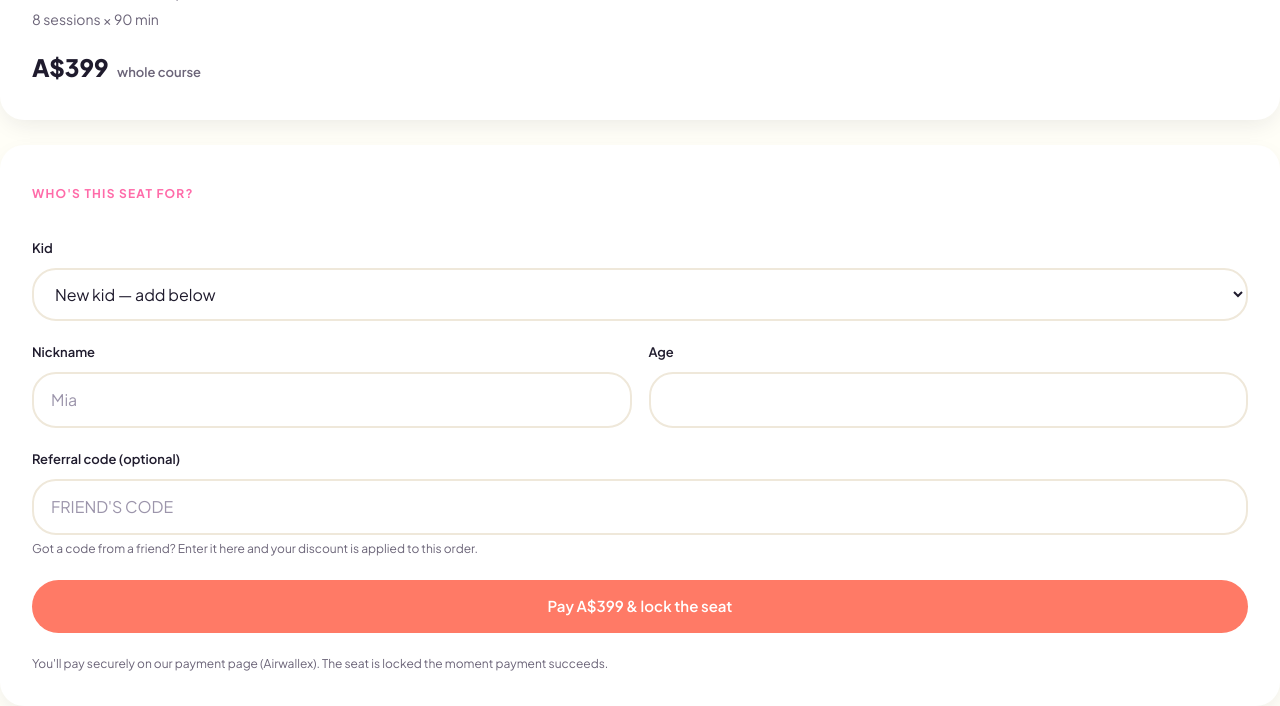
Test: ClassCheckoutPage › referral code entry (§7.2 rule 1) › confirms a good code and names the discount
(page scrolled)
Type "BCDF2345" into the field with placeholder "Friend's code".
click(640, 507); type("BCDF2345")  # box x1=32 y1=479 x2=1248 y2=535
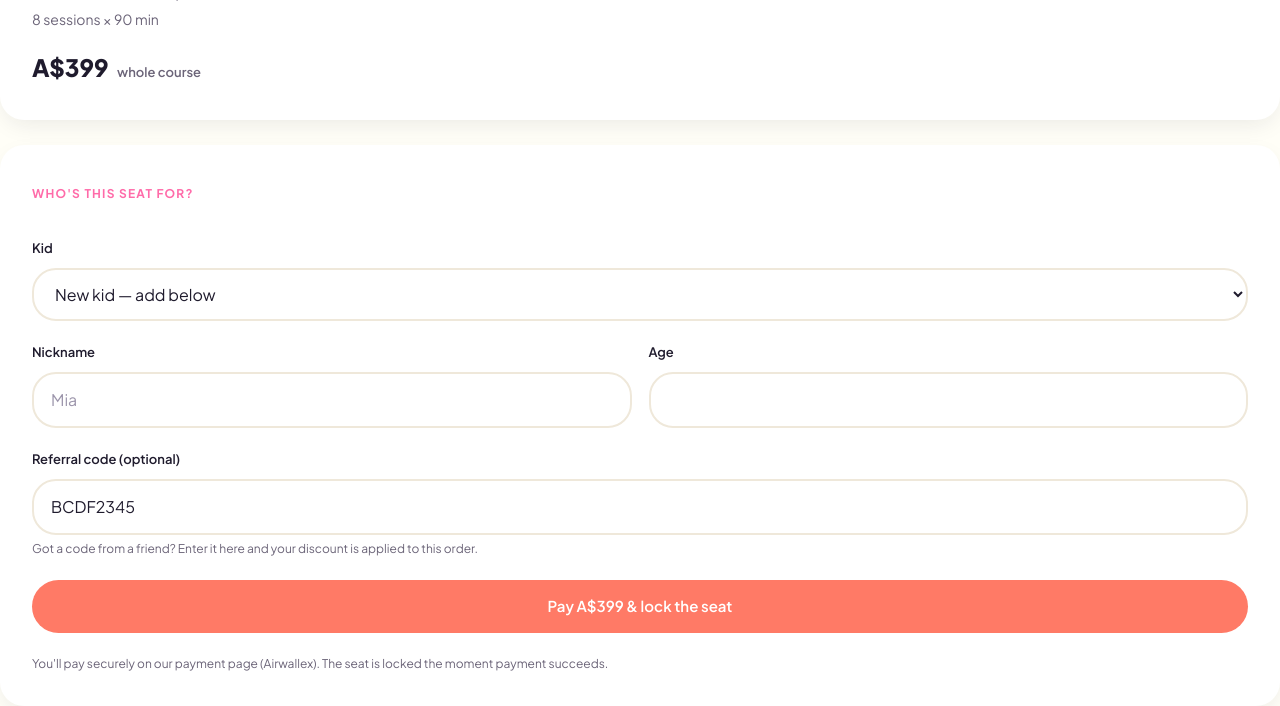
Leave the field with placeholder "Friend's code", box x1=32 y1=479 x2=1248 y2=535
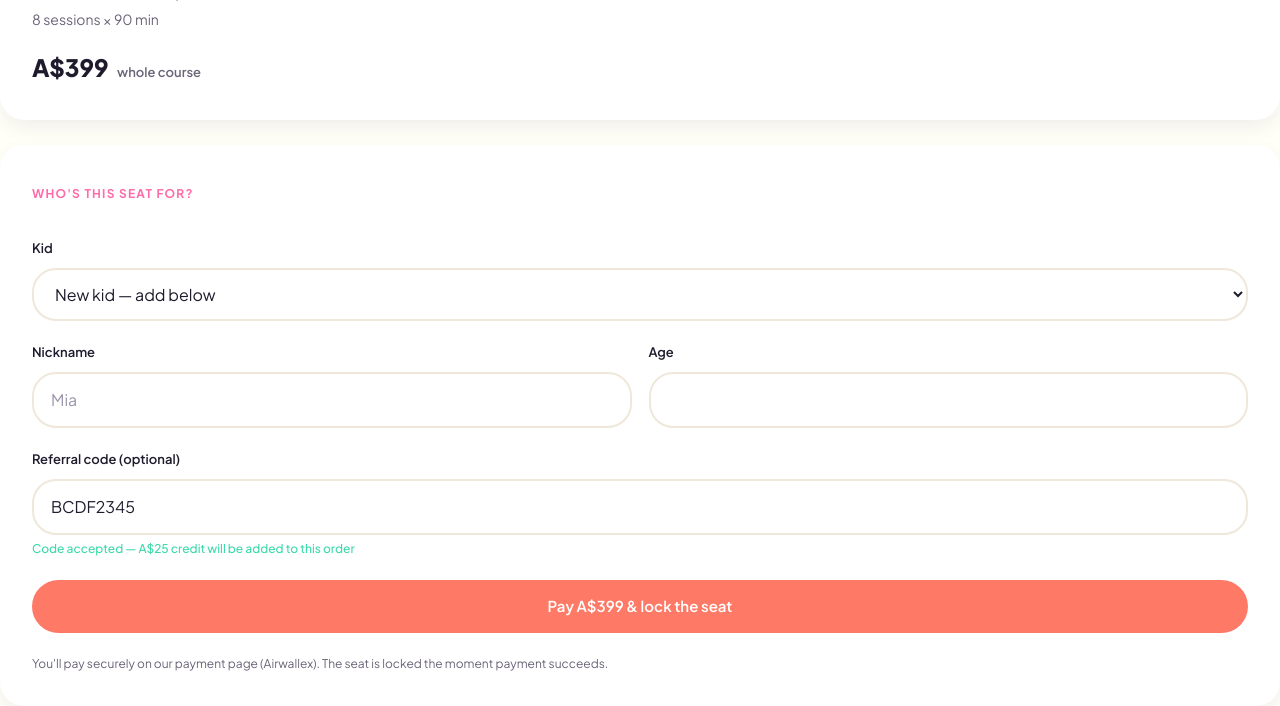
Check: the text "Code accepted — A$25 credit will be added to this order" is shown, box x1=32 y1=541 x2=355 y2=556
